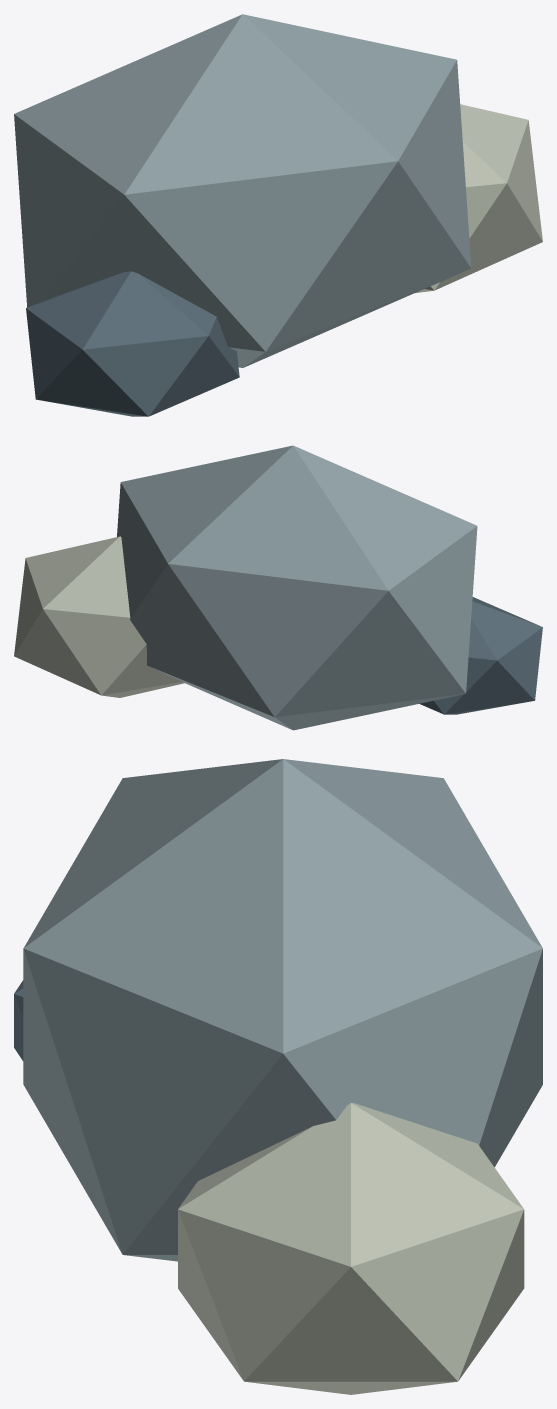
File: rock-cluster.glb
The picture shows the model from 3 angles, top to bottom: view 1: azimuth 30°, elevation 25°; view 2: azimuth 150°, elevation 25°; view 3: azimuth 270°, elevation 25°; orthographic projection. The views are drawn at different scales.
Visible parts, largest first — view 1: rock, rock.002, rock.001; view 2: rock, rock.001, rock.002; view 3: rock, rock.001.
Boxes of the visible parts, <box> form: rock: <box>14,14,471,367</box>; rock.002: <box>26,271,239,416</box>; rock.001: <box>415,104,542,293</box>; rock: <box>117,445,477,730</box>; rock.001: <box>14,536,184,697</box>; rock.002: <box>419,597,542,714</box>; rock: <box>23,759,542,1261</box>; rock.001: <box>178,1103,524,1394</box>.
Bounding box in the file's own units: 2.23 × 1.34 × 1.25.
